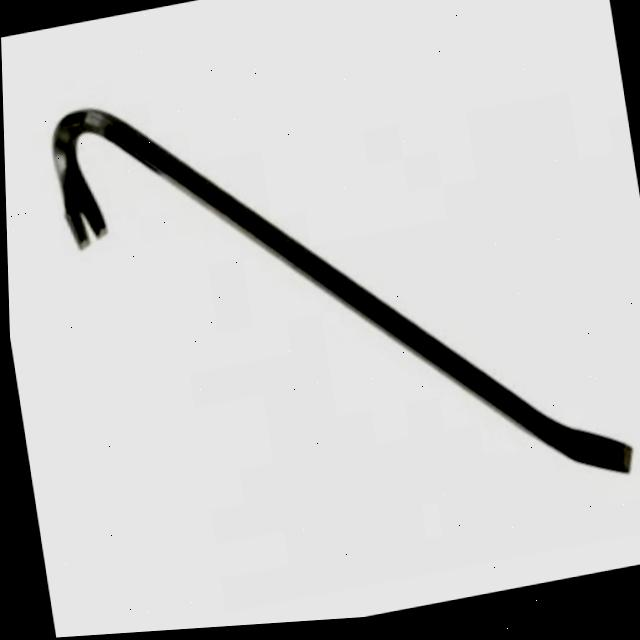crow bar: (49, 110, 635, 483)
